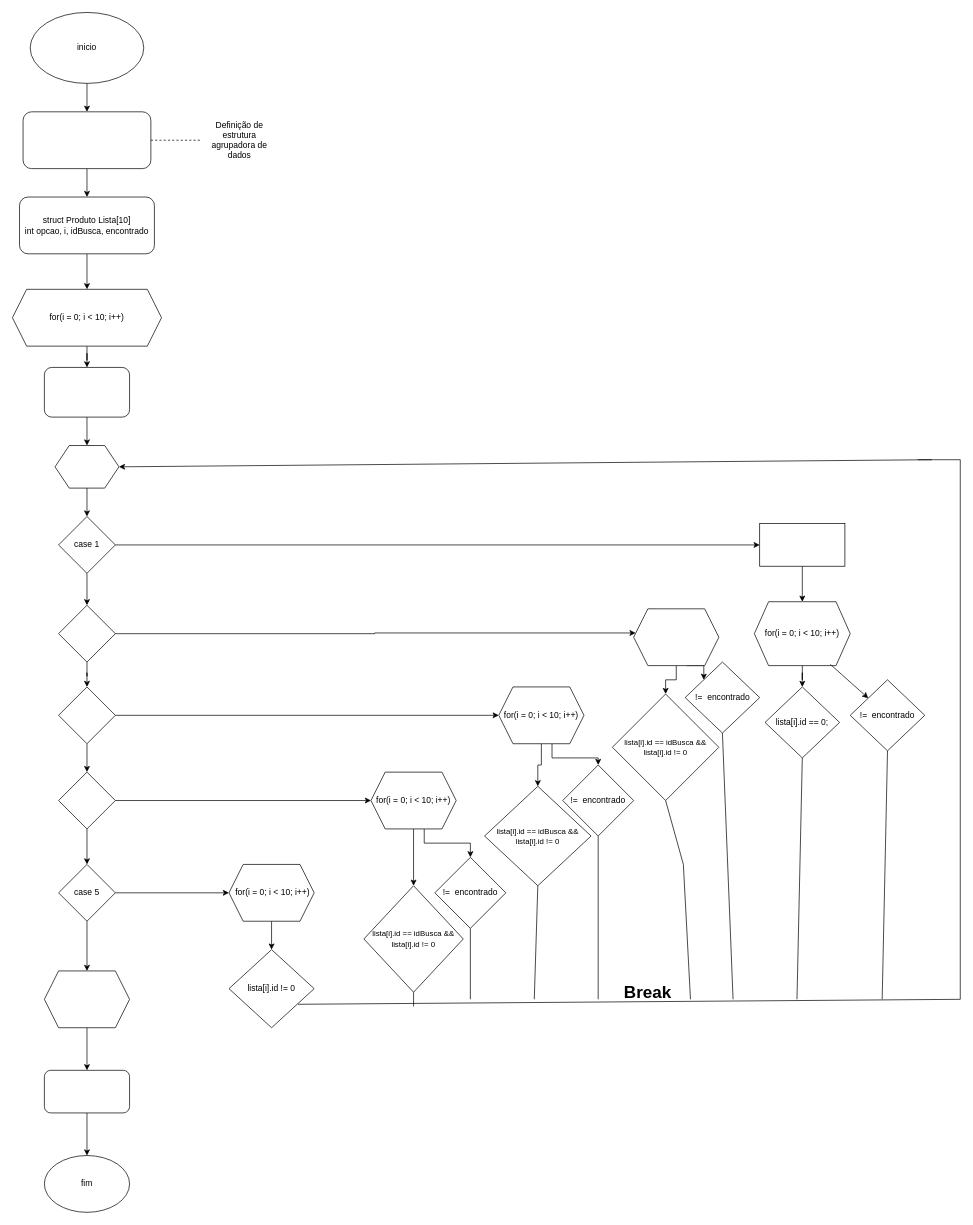
Image size: 973x1225. Some labels were removed from this diagram. The shapes that lost their labels are listed below. From the top down, each one's centre as x and y in pixels, then its label:
(86,140): struct Produto{ int id; char nome[50];
(87,392): lista[i].id=0
(86,466): Do
(802,544): encontrado = 0
(86,633): case 2
(676,637): for( i = 0; i < 10; i++)
(86,715): case 3
(86,800): case 4
(87,999): while
(87,1091): (opcao != 0)
